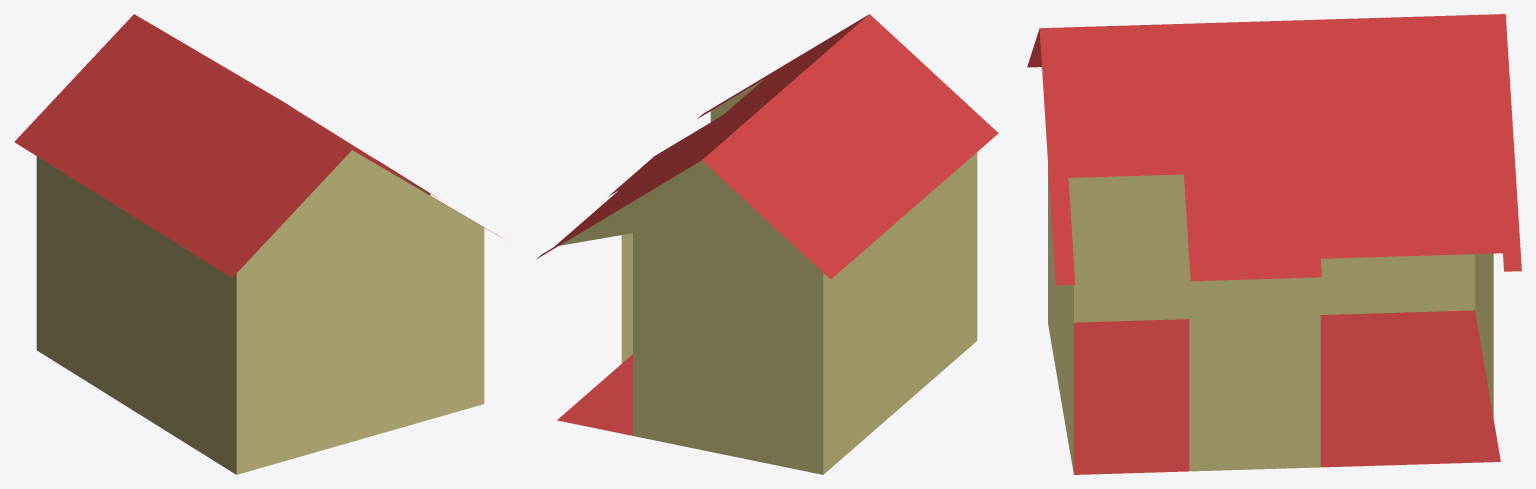
The picture shows the model from 3 angles, left to right: view 1: azimuth 30°, elevation 25°; view 2: azimuth 150°, elevation 25°; view 3: azimuth 270°, elevation 25°; orthographic projection. The views are drawn at different scales.
Bounding box in the file's own units: 16.5 × 18.93 × 15.23.
